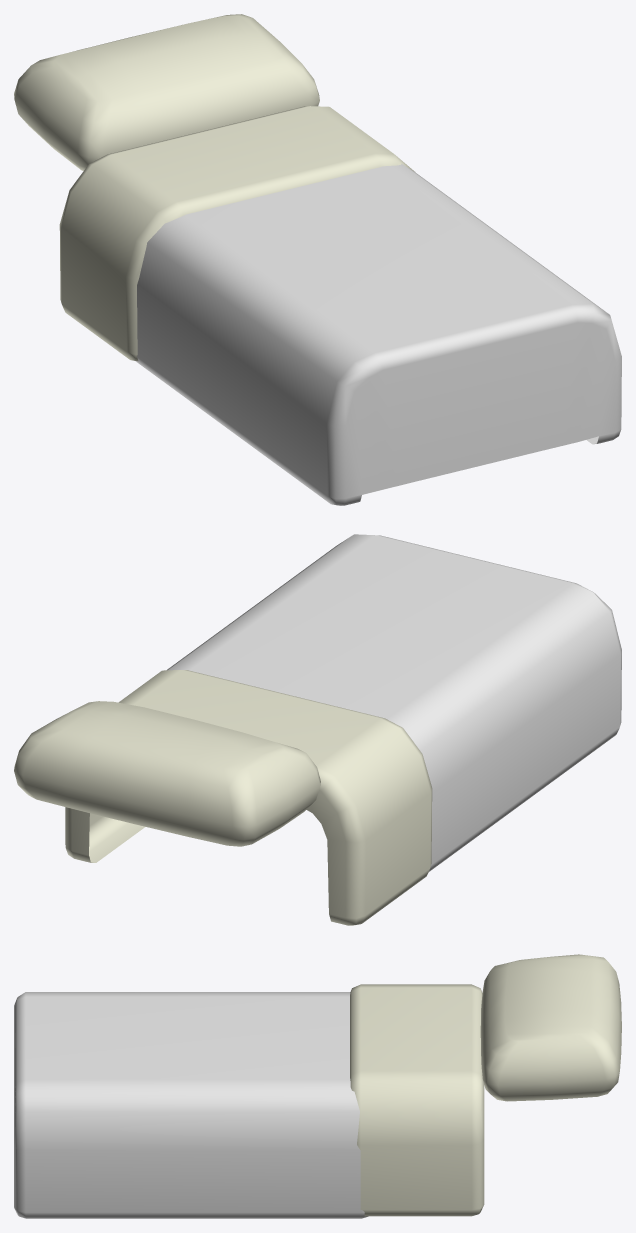
Rendered from Covers3_Single.fbx.
3 renders of one model, top to bottom at view 1: azimuth 30°, elevation 25°; view 2: azimuth 150°, elevation 25°; view 3: azimuth 270°, elevation 25°, orthographic. The views are drawn at different scales.
Parts seen in each view (by area): view 1: Covers3_Single; view 2: Covers3_Single; view 3: Covers3_Single.
Boxes of the visible parts, x1,y1,x2,y2 form: Covers3_Single: (14, 14, 621, 505); Covers3_Single: (14, 534, 621, 925); Covers3_Single: (14, 954, 621, 1218).
Bounding box in the file's own units: 0.952 × 0.609 × 1.95.
